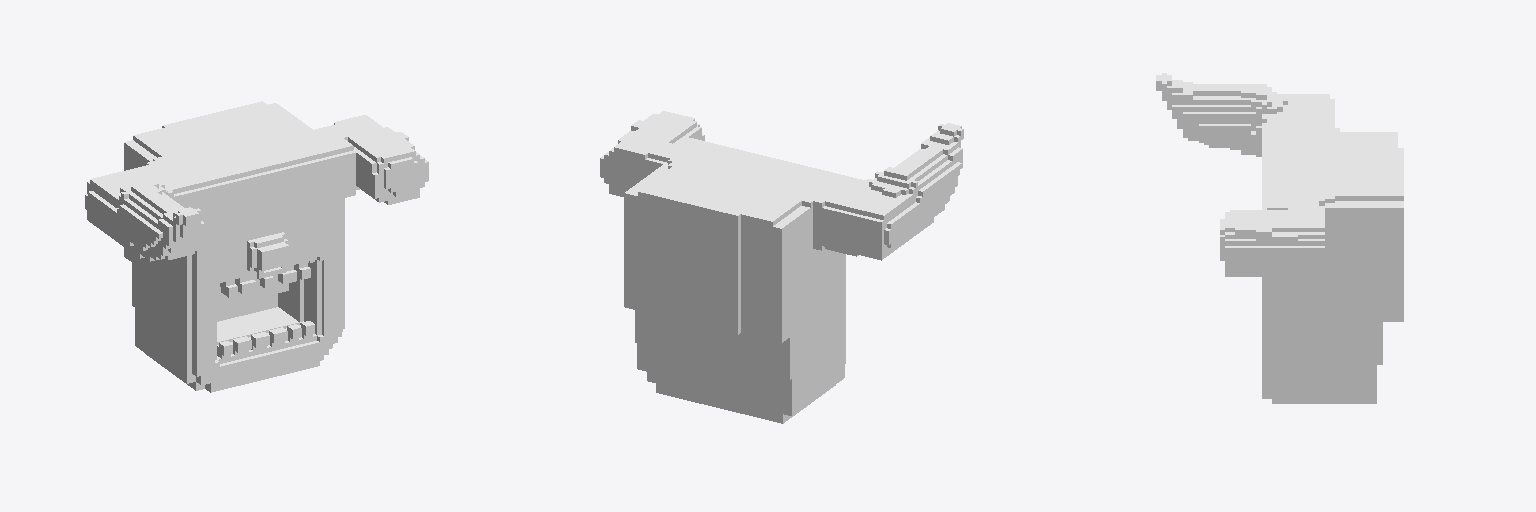
File: MeleeRogatiy-9.obj
3 views of the same model, side by side, from view 1: azimuth 30°, elevation 25°; view 2: azimuth 150°, elevation 25°; view 3: azimuth 270°, elevation 25° (orthographic).
Parts seen in each view (by area): view 1: object 1; view 2: object 1; view 3: object 1.
Part boxes in pixels (x1,y1,x2,y2): object 1: (85, 101, 428, 392); object 1: (600, 111, 963, 423); object 1: (1156, 73, 1403, 403).
Size of the model in its own units: 6.4 by 4.9 by 4.7.